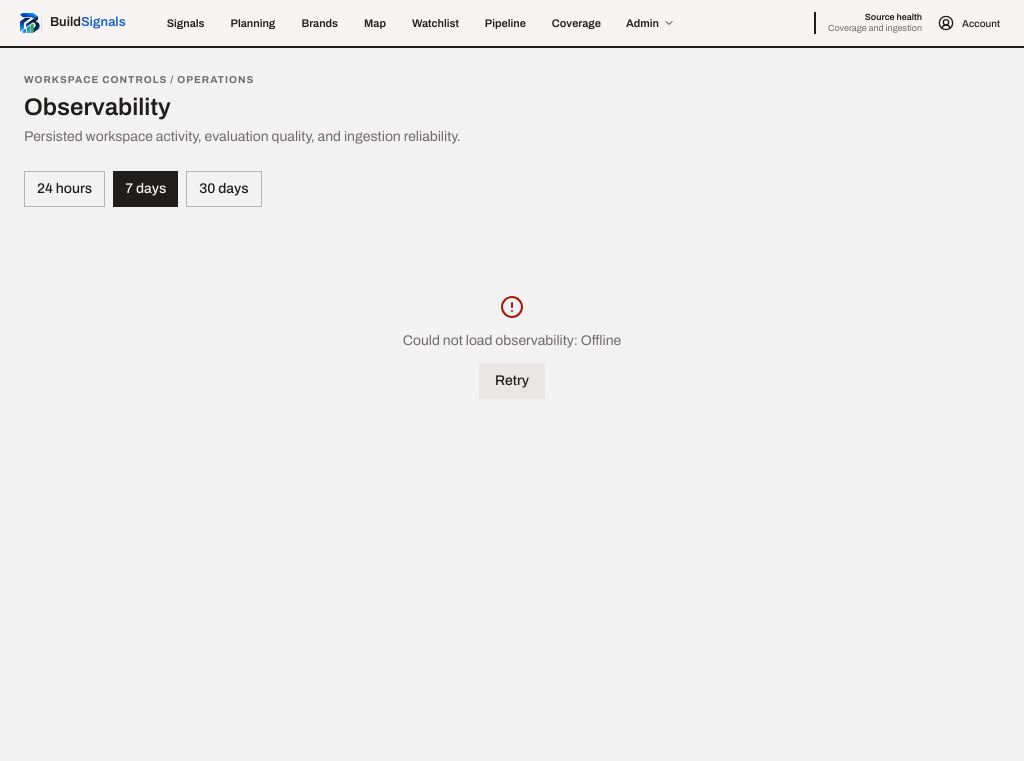
it: Observability › shows an error and retries
Expected: the text "Could not load observability: Offline" is shown, [403,331,621,351]
Click the button "Retry" at (512, 381), box [479,363,545,399]
(page scrolled)
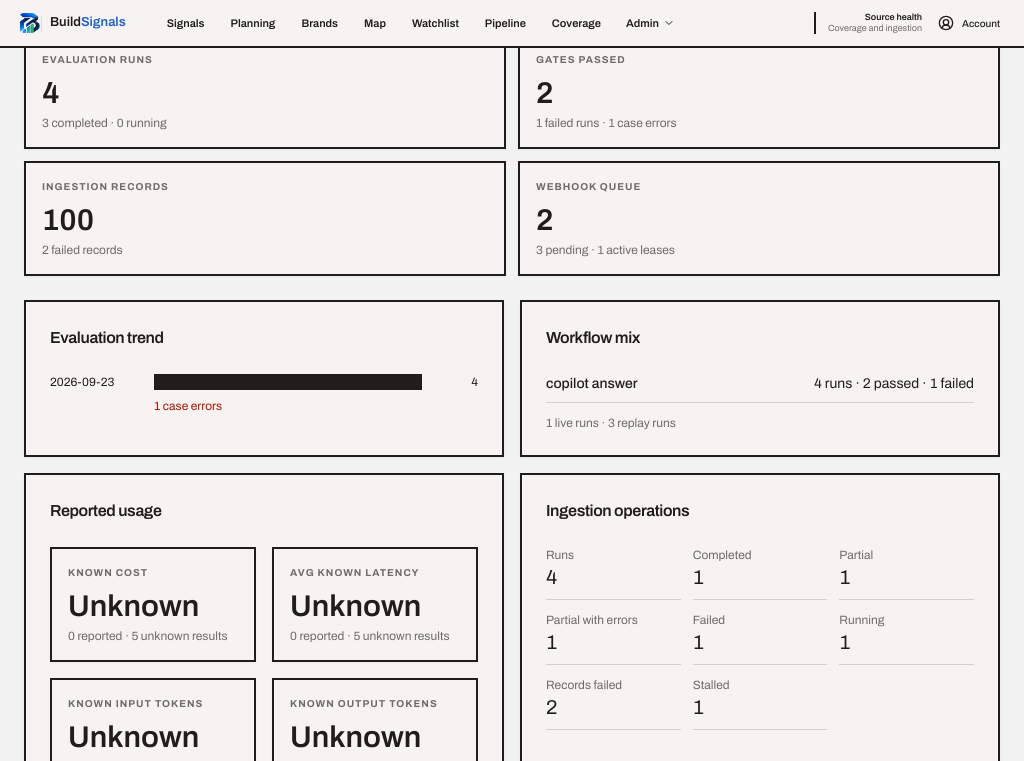
Expected: the text "copilot answer" is shown, [546,374,638,394]
